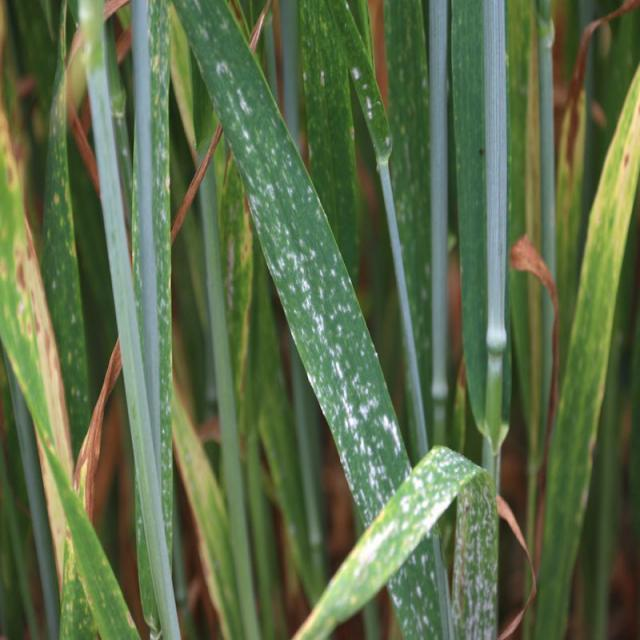wheat-powdery-mildew: (170, 0, 411, 532), (291, 446, 500, 640), (387, 529, 456, 640)
